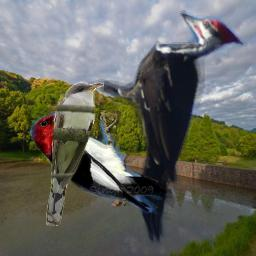Cuckoo: (46, 82, 104, 226)
Woodpecker: (88, 10, 247, 245), (15, 96, 179, 219)
